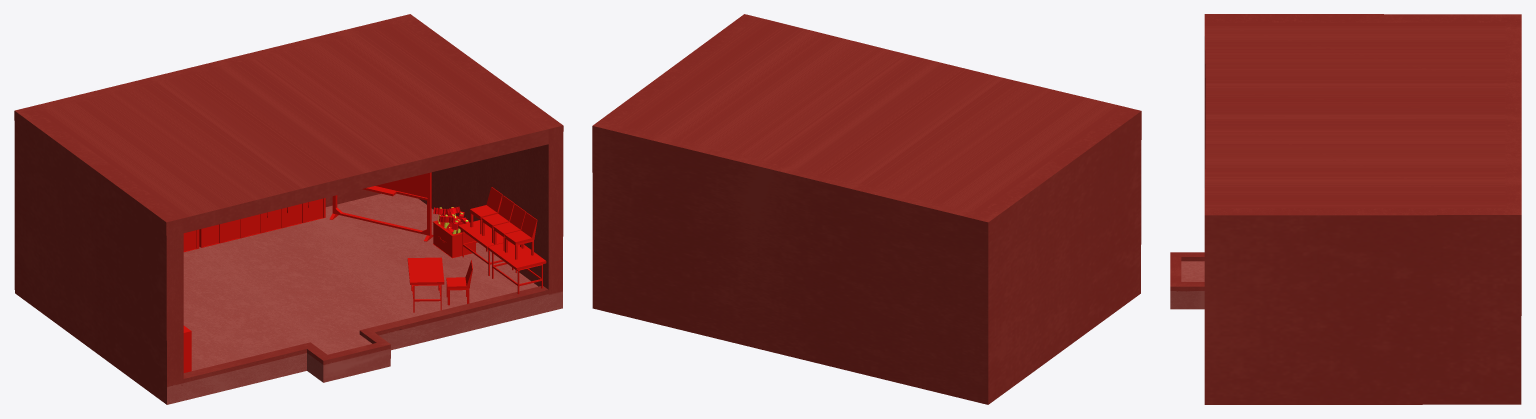
File: Clube.fbx
The picture shows the model from 3 angles, left to right: view 1: azimuth 30°, elevation 25°; view 2: azimuth 150°, elevation 25°; view 3: azimuth 270°, elevation 25°; orthographic projection. The views are drawn at different scales.
Parts seen in each view (by area): view 1: SalaClubVermelho, AssetsEscola_Vermelho.001; view 2: SalaClubVermelho; view 3: SalaClubVermelho.
Boxes of the visible parts, x1,y1,x2,y2 form: SalaClubVermelho: (14, 14, 563, 404); AssetsEscola_Vermelho.001: (183, 172, 546, 372); SalaClubVermelho: (592, 14, 1141, 404); SalaClubVermelho: (1170, 14, 1521, 404).
Size of the model in its own units: 975 by 429 by 719.
